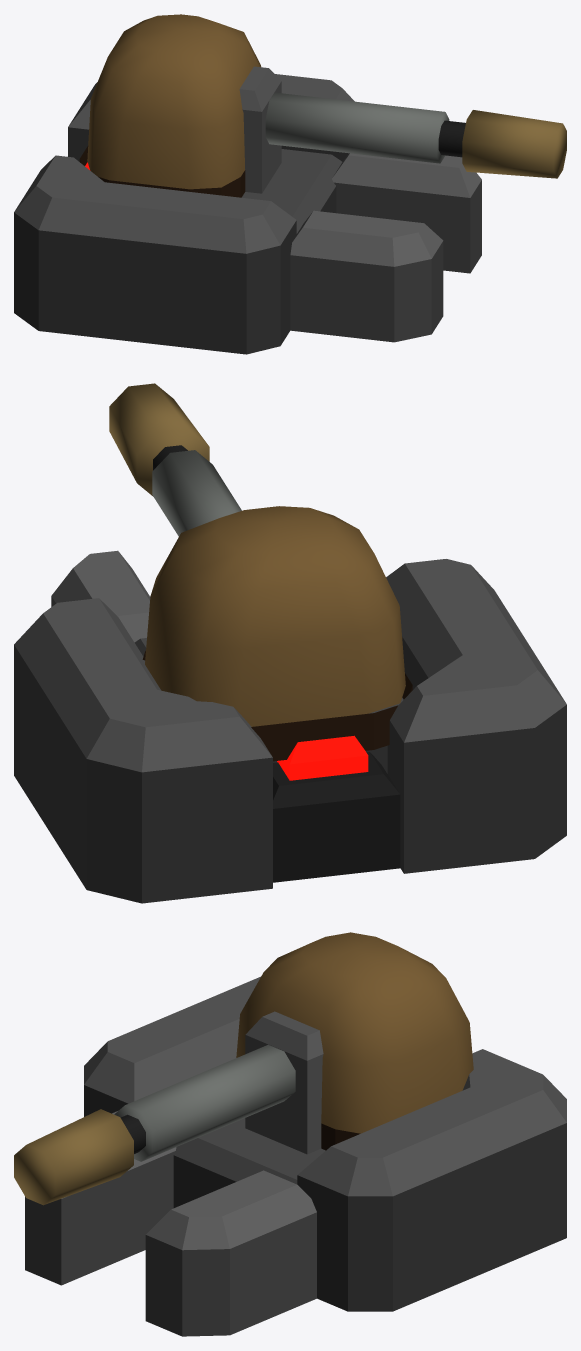
Rendered from newshp-13-f8.glb.
3 renders of one model, top to bottom at view 1: azimuth 30°, elevation 25°; view 2: azimuth 150°, elevation 25°; view 3: azimuth 270°, elevation 25°, orthographic. The views are drawn at different scales.
Visible parts, largest first — view 1: newshp-13-f8; view 2: newshp-13-f8; view 3: newshp-13-f8.
Part boxes in pixels (x1=…): newshp-13-f8: x1=14, y1=14, x2=566, y2=354; newshp-13-f8: x1=14, y1=383, x2=566, y2=903; newshp-13-f8: x1=14, y1=932, x2=566, y2=1336.
Bounding box in the file's own units: 1.22 × 0.6 × 1.16.
